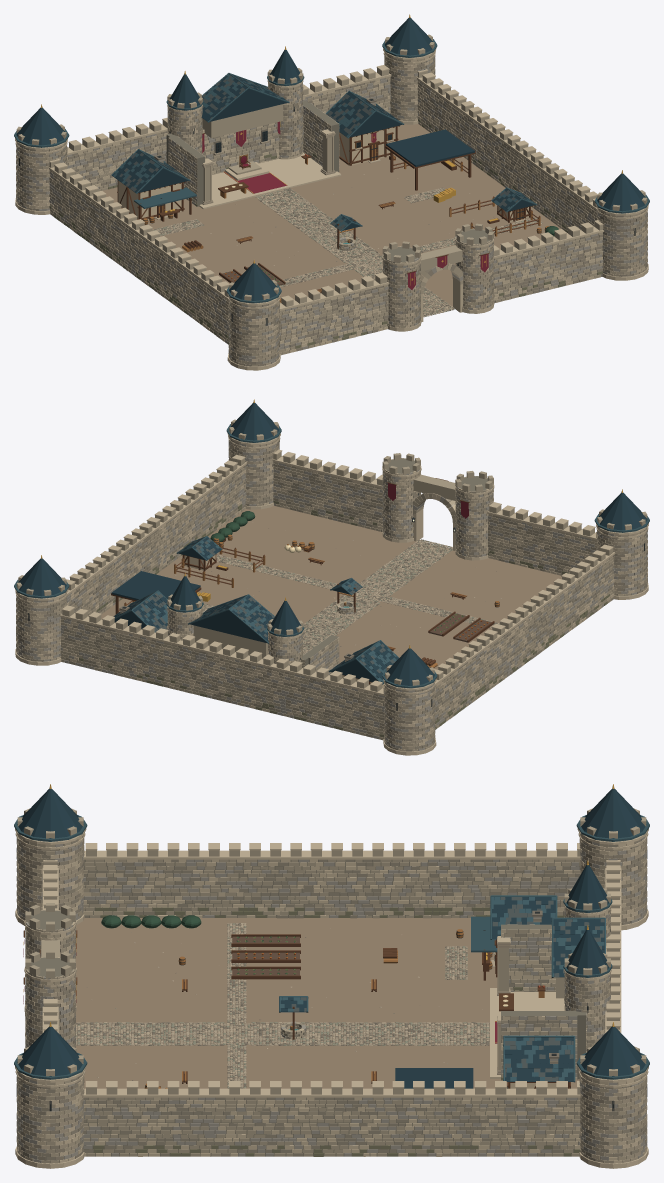
Rendered from chateau.glb.
3 views of the same model, one above another, from view 1: azimuth 30°, elevation 25°; view 2: azimuth 150°, elevation 25°; view 3: azimuth 270°, elevation 25° (orthographic). The views are drawn at different scales.
Parts seen in each view (by area): view 1: chateau_Maillage, chateau_Maconnerie_4_3, chateau_Maconnerie_6_3, chateau_Maconnerie_4_6, chateau_Maconnerie_3_3, chateau_Maconnerie_5_6, chateau_Maconnerie_3_6, chateau_Maconnerie_6_6, chateau_Maconnerie_5_3, chateau_Maconnerie_3_4, chateau_Maconnerie_3_5, chateau_Maconnerie_6_5 (+9 smaller); view 2: chateau_Maillage, chateau_Maconnerie_4_6, chateau_Maconnerie_6_6, chateau_Maconnerie_5_6, chateau_Maconnerie_4_3, chateau_Maconnerie_3_6, chateau_Maconnerie_6_3, chateau_Maconnerie_5_3, chateau_Maconnerie_3_3, chateau_Maconnerie_3_4, chateau_Maconnerie_3_5, chateau_Maconnerie_6_4 (+8 smaller); view 3: chateau_Maillage, chateau_Maconnerie_6_6, chateau_Maconnerie_6_4, chateau_Maconnerie_6_5, chateau_Maconnerie_3_4, chateau_Maconnerie_3_5, chateau_Maconnerie_6_3, chateau_Maconnerie_3_6, chateau_Maconnerie_3_3, chateau_Chemins_cour_5_4, chateau_Maconnerie_5_6, chateau_Chemins_cour_5_5 (+10 smaller).
Part boxes in pixels (x1,y1,x2,y2): chateau_Maillage: (14, 14, 649, 370); chateau_Maconnerie_4_3: (304, 246, 420, 348); chateau_Maconnerie_6_3: (538, 206, 647, 292); chateau_Maconnerie_4_6: (91, 107, 227, 206); chateau_Maconnerie_3_3: (219, 295, 309, 366); chateau_Maconnerie_5_6: (221, 82, 339, 172); chateau_Maconnerie_3_6: (16, 142, 97, 239); chateau_Maconnerie_6_6: (326, 52, 455, 134); chateau_Maconnerie_5_3: (455, 228, 543, 310); chateau_Maconnerie_3_4: (151, 245, 222, 338); chateau_Maconnerie_3_5: (84, 197, 154, 289); chateau_Maconnerie_6_5: (452, 107, 522, 193); chateau_Maillage: (14, 399, 649, 755); chateau_Maconnerie_4_6: (237, 633, 359, 733); chateau_Maconnerie_6_6: (16, 576, 125, 676); chateau_Maconnerie_5_6: (119, 604, 242, 704); chateau_Maconnerie_4_3: (455, 476, 571, 575); chateau_Maconnerie_3_6: (353, 665, 463, 751); chateau_Maconnerie_6_3: (227, 437, 338, 520); chateau_Maconnerie_5_3: (332, 458, 420, 539); chateau_Maconnerie_3_3: (566, 527, 647, 610); chateau_Maconnerie_3_4: (528, 567, 599, 659); chateau_Maconnerie_3_5: (460, 617, 531, 709); chateau_Maconnerie_6_4: (160, 477, 230, 568); chateau_Maillage: (14, 784, 649, 1168); chateau_Maconnerie_6_6: (481, 1072, 647, 1163); chateau_Maconnerie_6_4: (122, 1097, 311, 1156); chateau_Maconnerie_6_5: (302, 1097, 489, 1156); chateau_Maconnerie_3_4: (122, 859, 310, 918); chateau_Maconnerie_3_5: (302, 859, 489, 918); chateau_Maconnerie_6_3: (16, 1072, 131, 1163); chateau_Maconnerie_3_6: (480, 835, 647, 925); chateau_Maconnerie_3_3: (16, 834, 131, 920); chateau_Chemins_cour_5_4: (127, 1023, 306, 1088); chateau_Maconnerie_5_6: (501, 973, 610, 1080); chateau_Chemins_cour_5_5: (306, 1023, 485, 1044).
Size of the model in its own units: 49.72 by 12.29 by 49.72.
